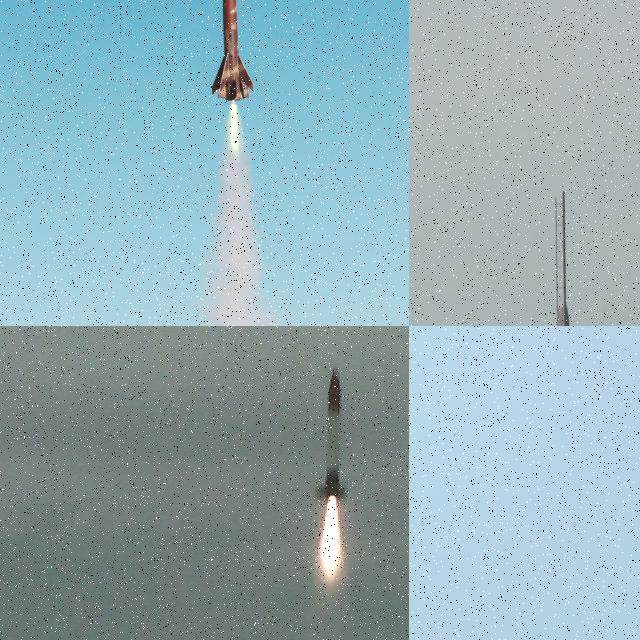Rocket: (210, 0, 255, 102), (322, 367, 344, 497)
